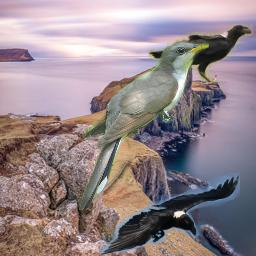Crow: (99, 173, 240, 255), (148, 24, 253, 83)
Cuckoo: (79, 42, 209, 210)
